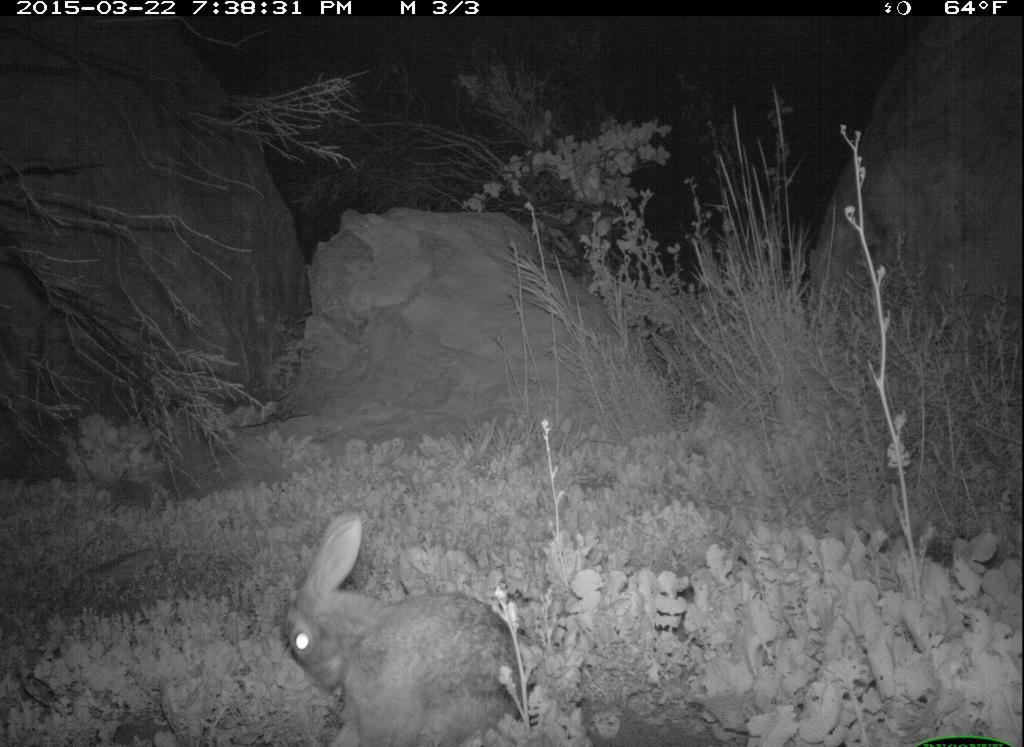rabbit: (278, 505, 532, 745)
